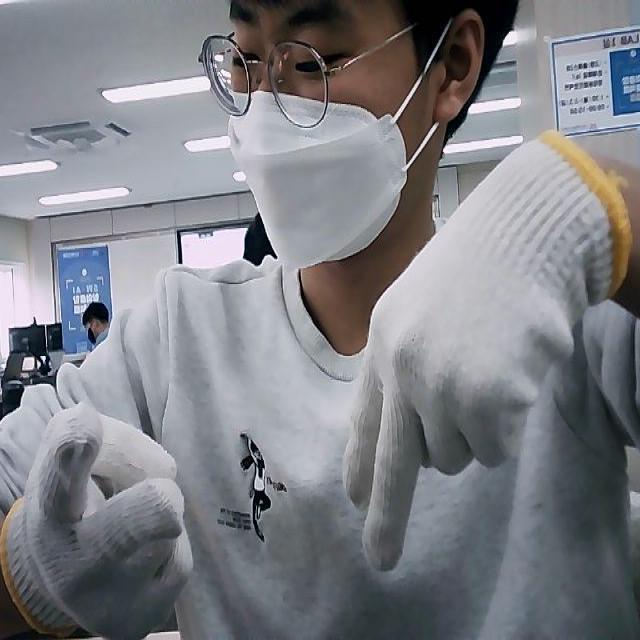gloves: (340, 132, 632, 575), (1, 403, 196, 640)
